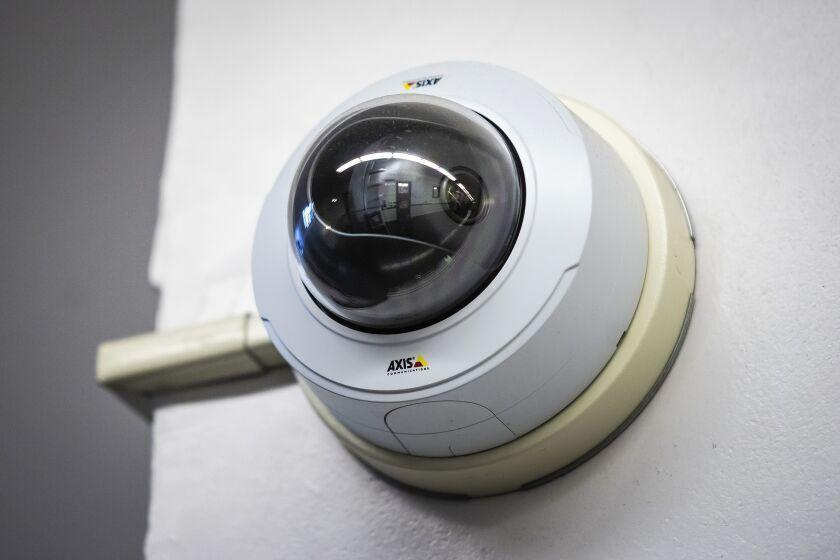CCTV: (224, 34, 733, 518)
